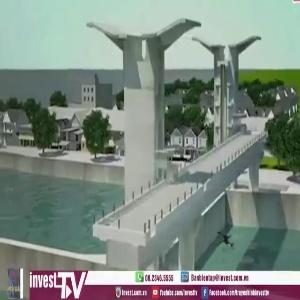drone: (205, 221, 248, 264)
